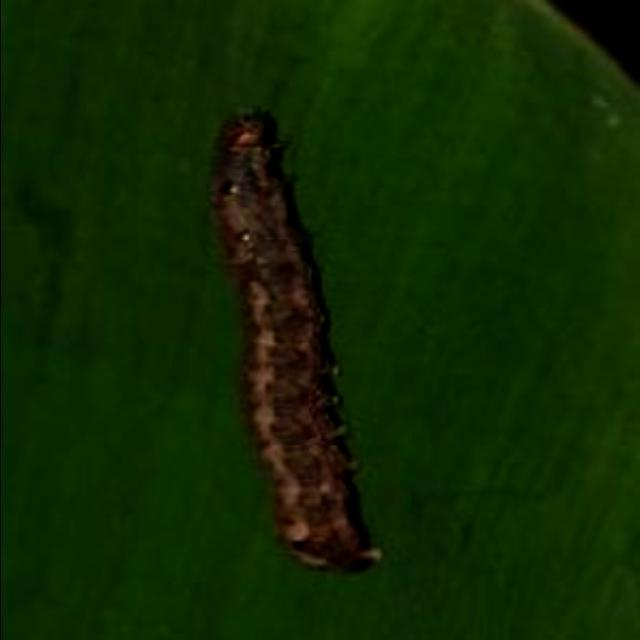Tobacco cutworm: (151, 71, 425, 594)
